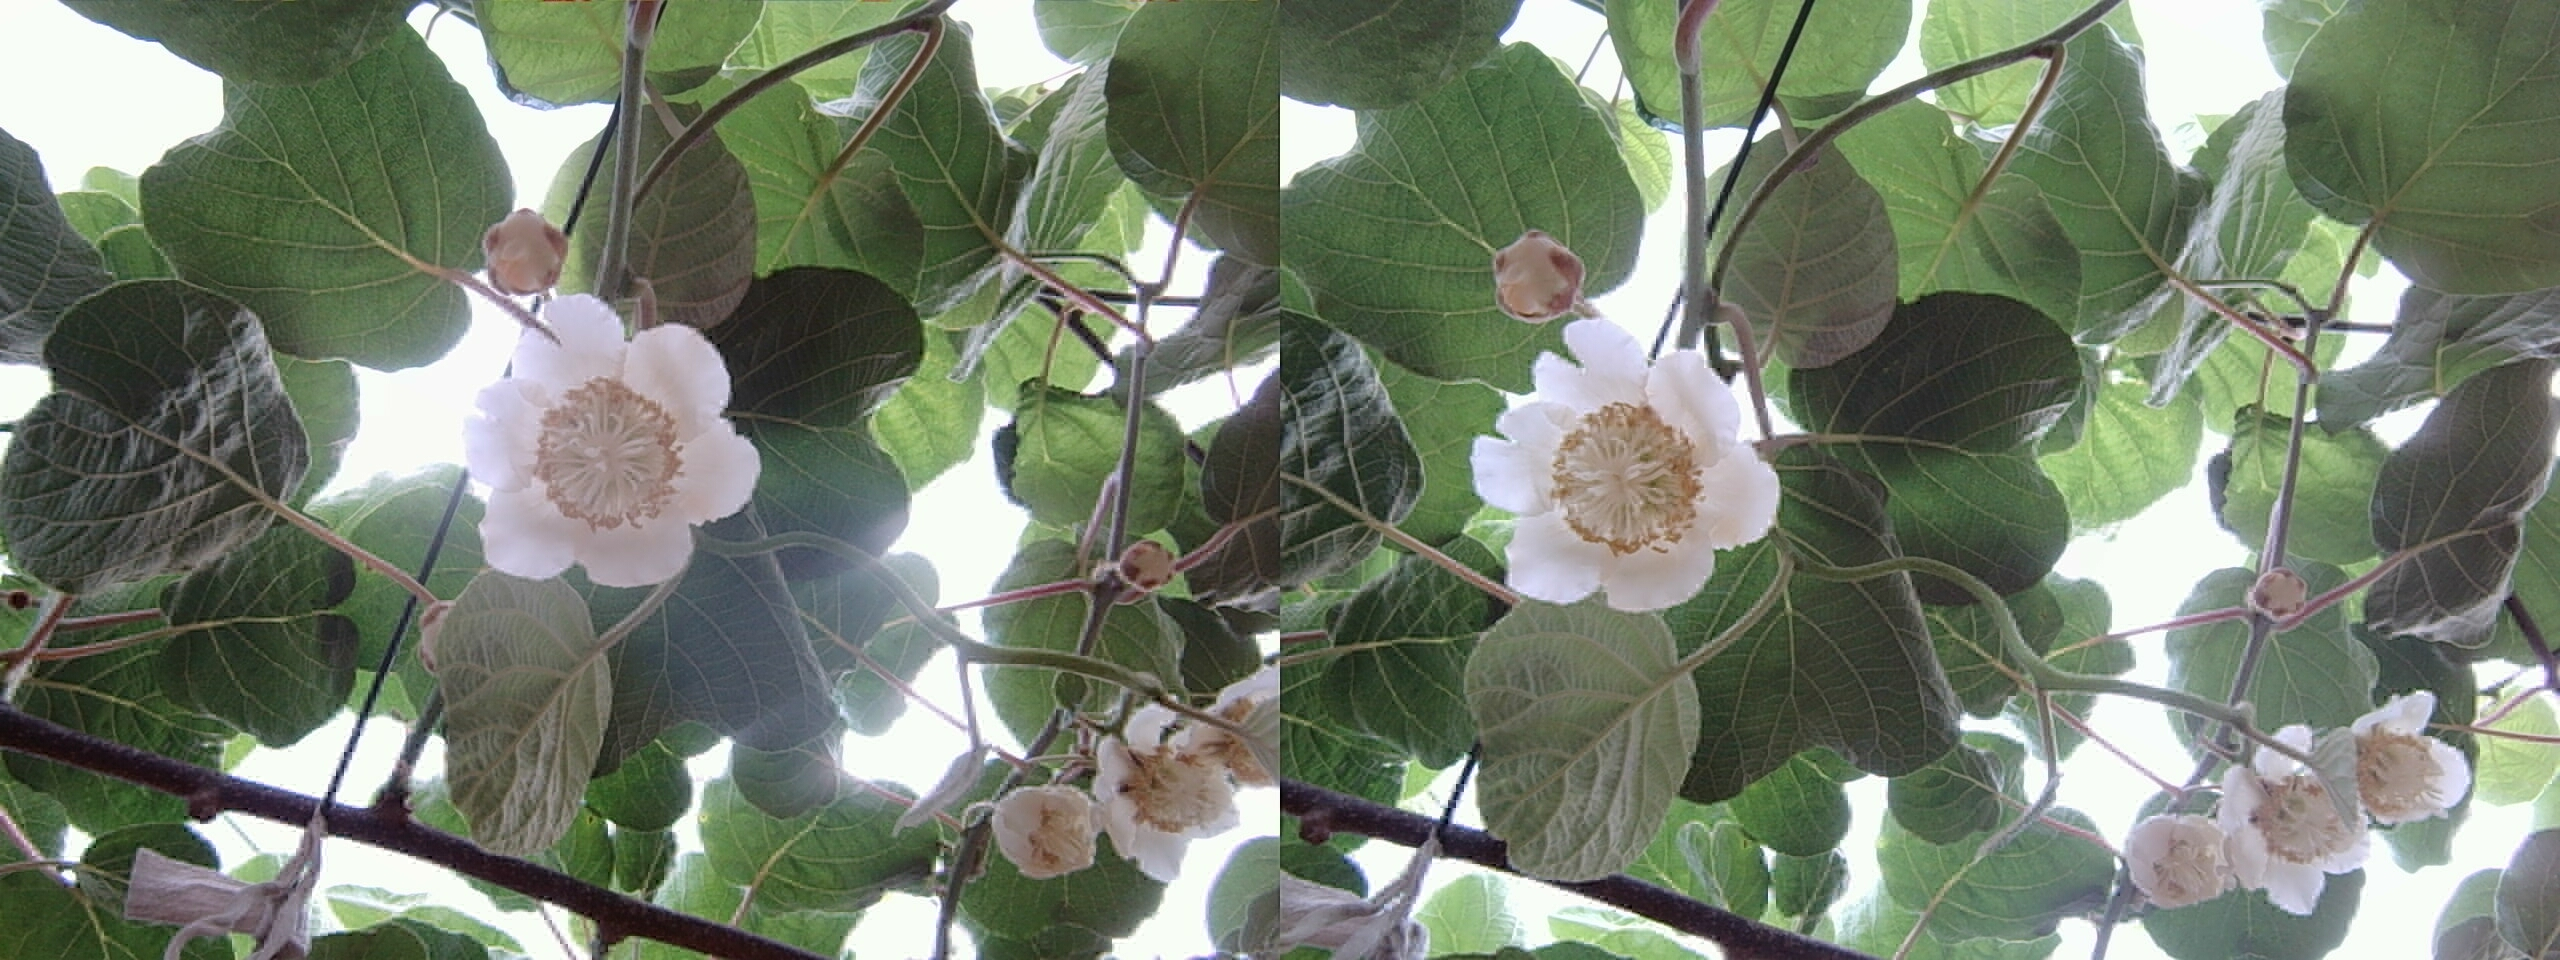flower: (1478, 336, 1775, 611), (464, 310, 753, 584), (2204, 723, 2372, 909), (1084, 699, 1256, 877), (2335, 691, 2469, 860), (2127, 797, 2238, 911), (994, 784, 1113, 870)
